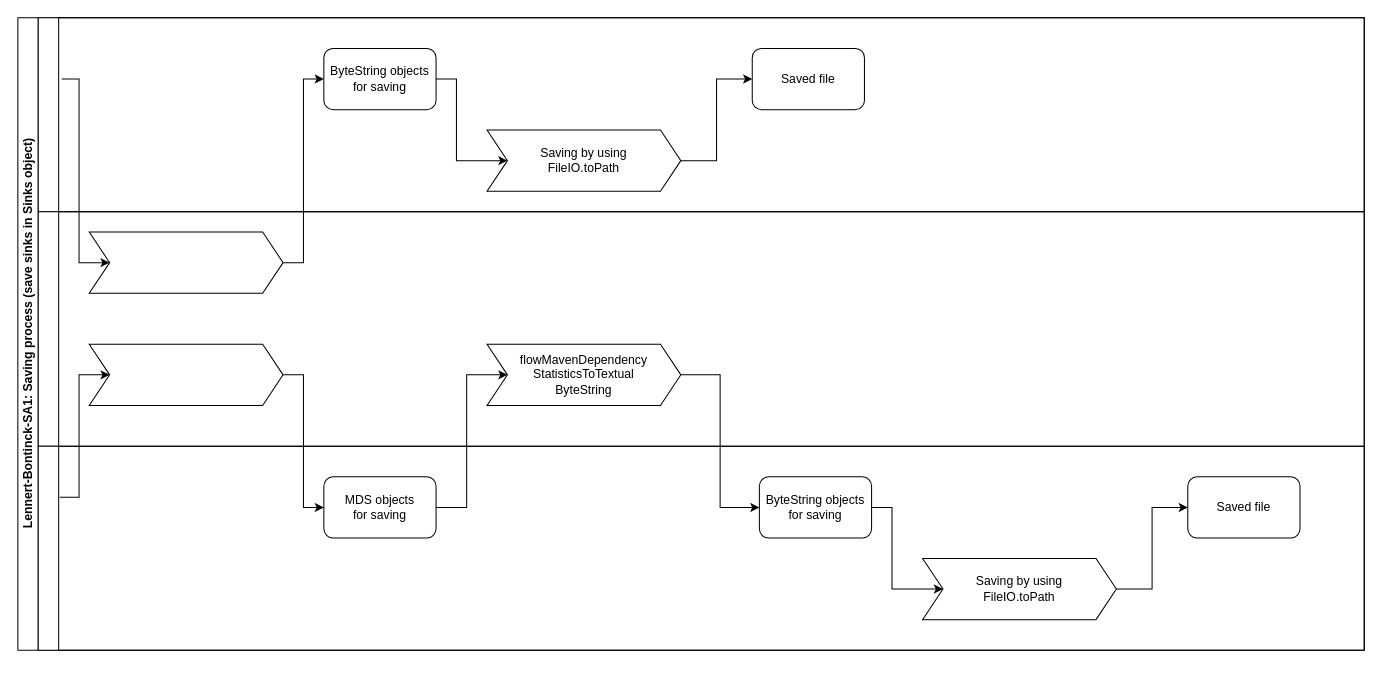
This 1382x678 diagram has some shape labels left out. The shapes that lost their labels are listed below. From the top down, each one's box as (x1, y1, x2, y2) in pixels, then its label:
(37, 17, 1364, 212): Sinks.textualMDCSaveSink
(88, 231, 283, 293): flowMavenDependency CountToTextualByteString
(37, 211, 1364, 446): Flows
(88, 343, 283, 405): flowMavenDependency CountToMaven DependencyStatistics
(37, 445, 1364, 650): Sinks.textualMDSSaveSink
